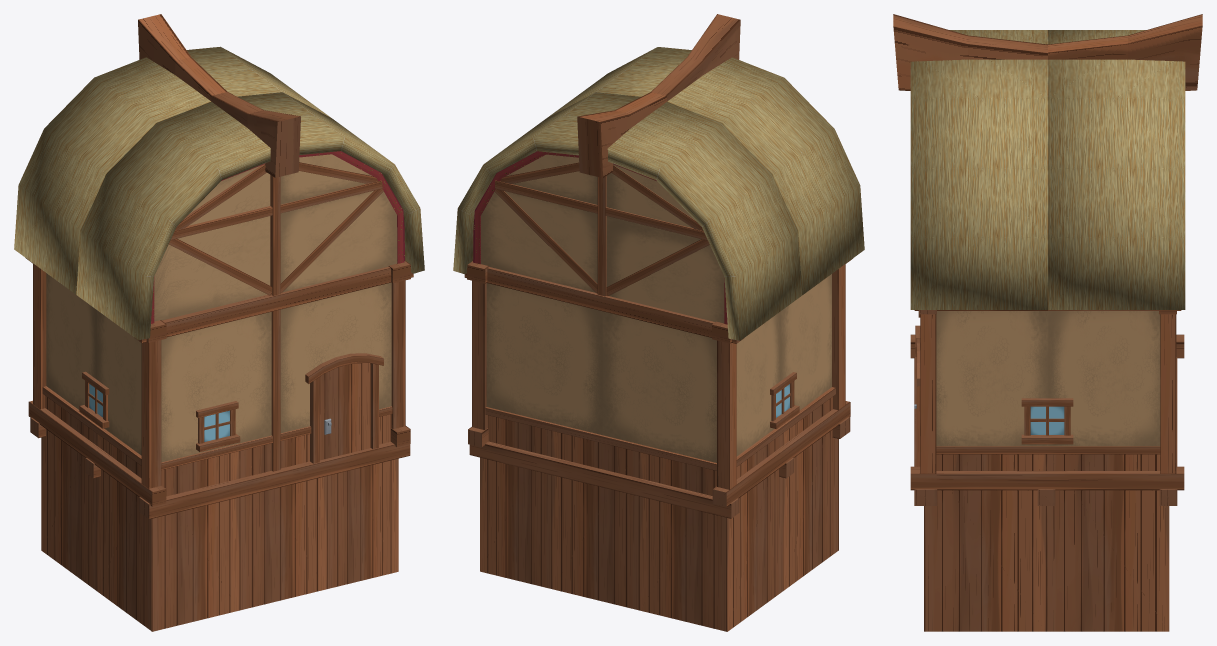
Rendered from house_farm0.glb.
3 views of the same model, side by side, from view 1: azimuth 30°, elevation 25°; view 2: azimuth 150°, elevation 25°; view 3: azimuth 270°, elevation 25° (orthographic). The views are drawn at different scales.
Visible parts, largest first — view 1: house_farm0_; view 2: house_farm0_; view 3: house_farm0_.
Boxes of the visible parts, <box> form: house_farm0_: <box>14,14,424,631</box>; house_farm0_: <box>453,14,864,631</box>; house_farm0_: <box>893,14,1202,631</box>.
Bounding box in the file's own units: 9.14 × 15.02 × 7.73.
Materials: 1 (1 with a texture image).
